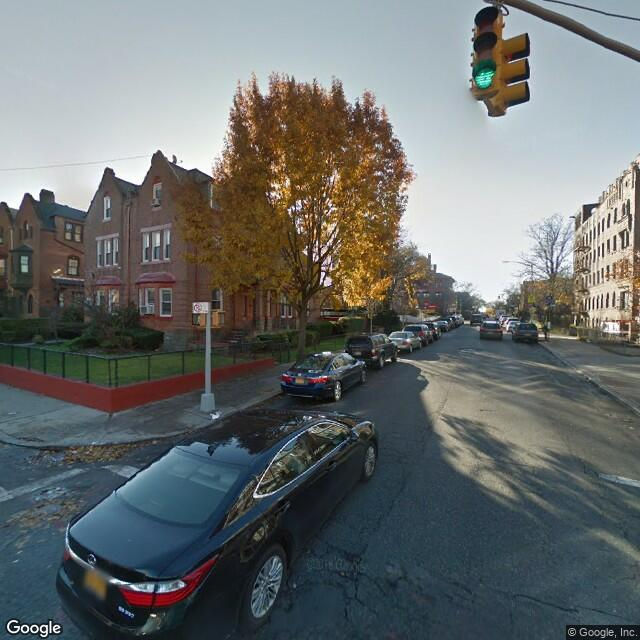litter: (207, 410, 223, 421), (574, 367, 582, 377), (6, 409, 17, 415), (150, 438, 157, 445), (626, 424, 634, 428), (587, 376, 591, 378)
